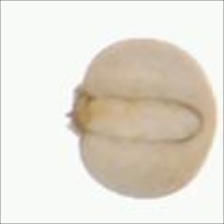L5: (90, 92, 205, 145), (64, 82, 93, 146), (202, 71, 219, 167)
L6: (64, 36, 220, 201)
